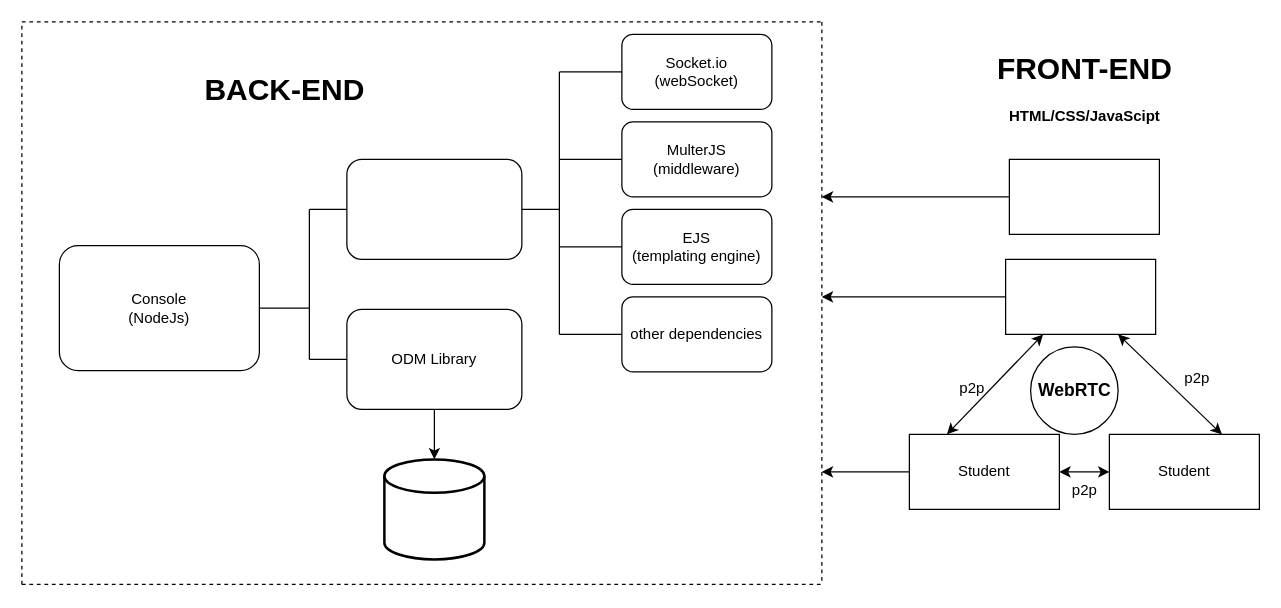
The diagram is 1281 pixels wide and 608 high, and some of its shapes have lost their labels. Each missing label, with the centre of its shape:
"Administrator" belongs at (x=1083, y=196).
"Database" belongs at (x=433, y=509).
"ExpressJs (Web FrameWork)" belongs at (x=434, y=208).
"Lecturer" belongs at (x=1080, y=296).
